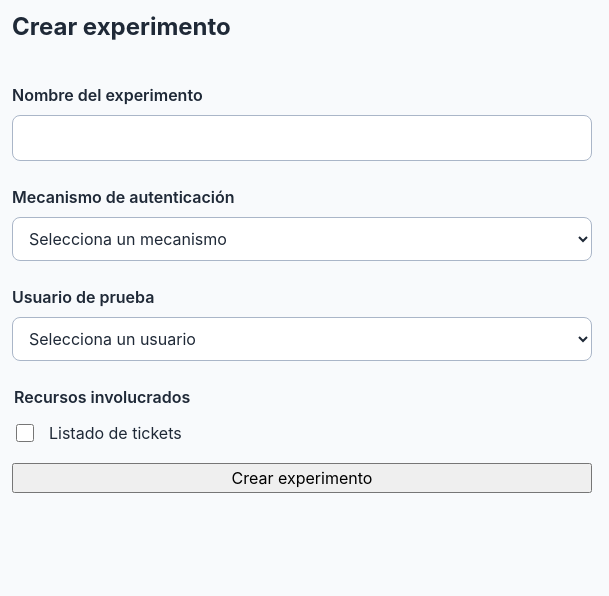
muestra los mensajes exactos y no crea con campos vacíos
Step 1. Click the button "Crear experimento" → click(302, 478), box x1=12 y1=463 x2=592 y2=493
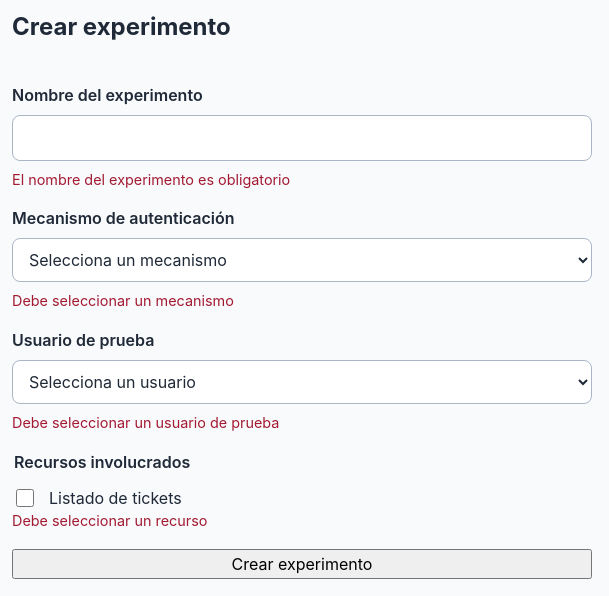
Check: the text "El nombre del experimento es obligatorio" is shown, box x1=12 y1=171 x2=290 y2=188
Check: the text "Debe seleccionar un mecanismo" is shown, box x1=12 y1=292 x2=234 y2=309
Check: the text "Debe seleccionar un usuario de prueba" is shown, box x1=12 y1=414 x2=279 y2=431
